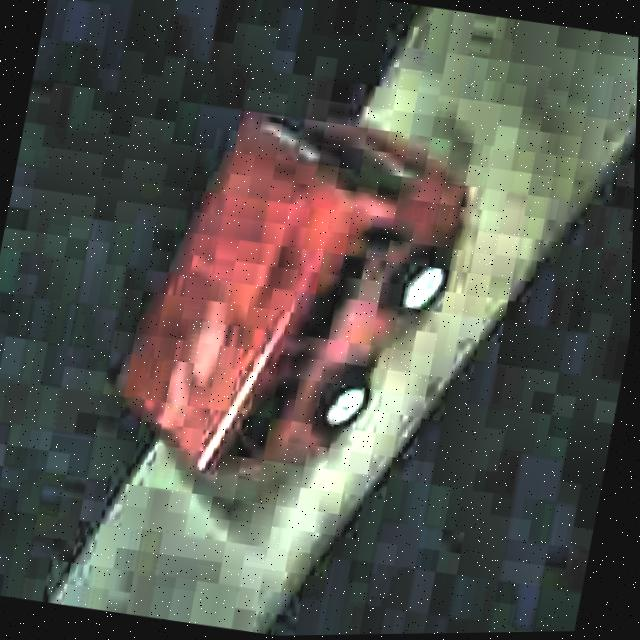bus: (101, 92, 481, 507)
